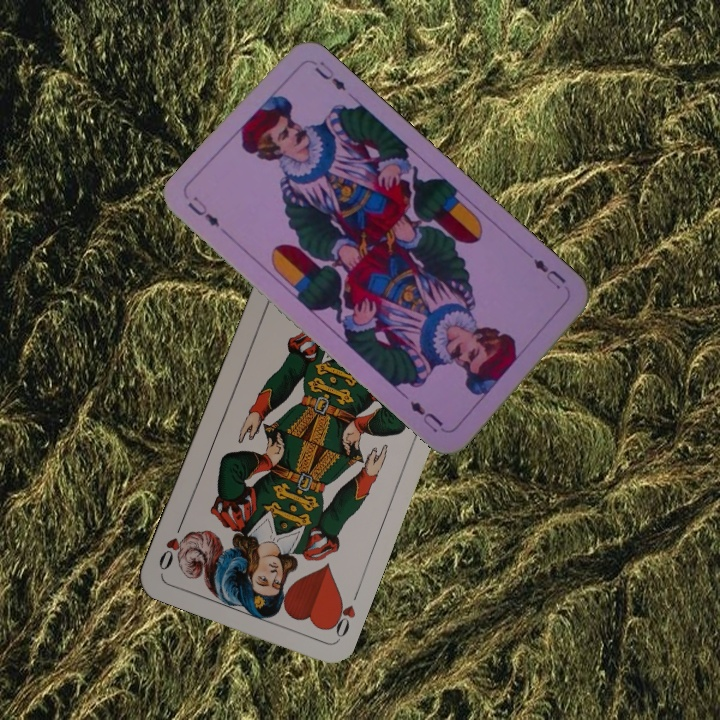EU: (183, 191, 223, 230), (529, 254, 569, 292)
HO: (324, 591, 358, 642)
